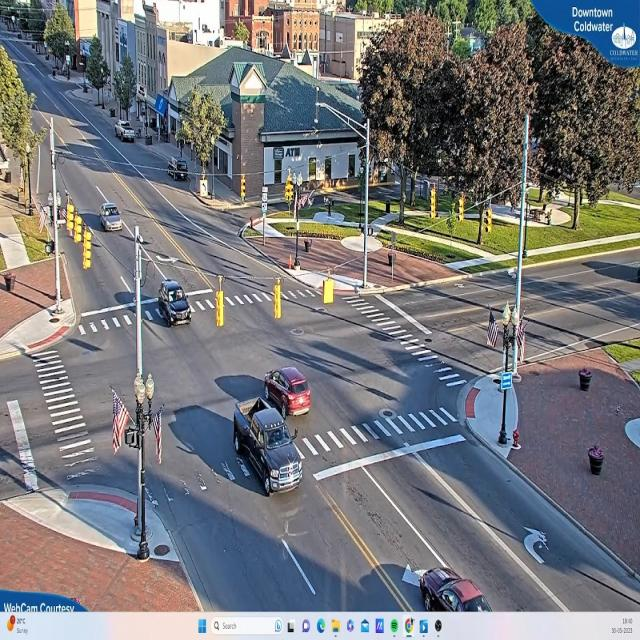car: (233, 396, 306, 497), (417, 569, 495, 612), (269, 370, 314, 418), (156, 280, 192, 327), (100, 204, 124, 233), (116, 123, 136, 143)
